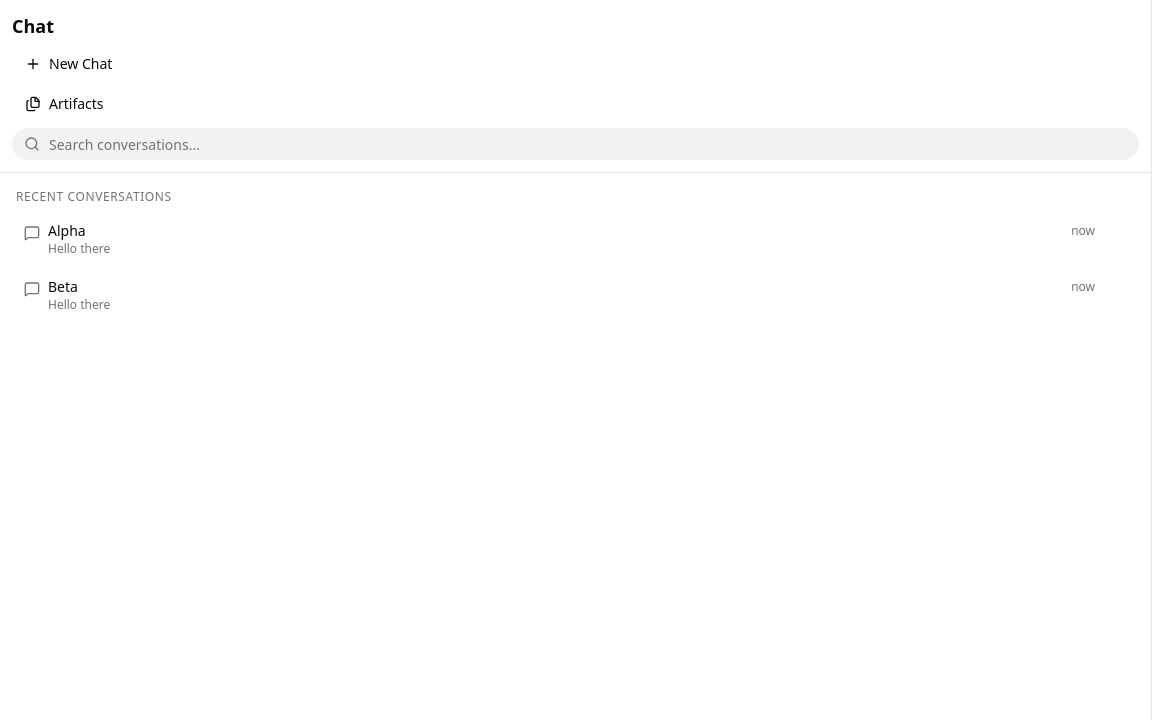
it: ChatSidebar — conversation list › filters by title via the search input
Type "alp" into the field with placeholder "Search conversations..." at (576, 144), box [12, 128, 1139, 160]
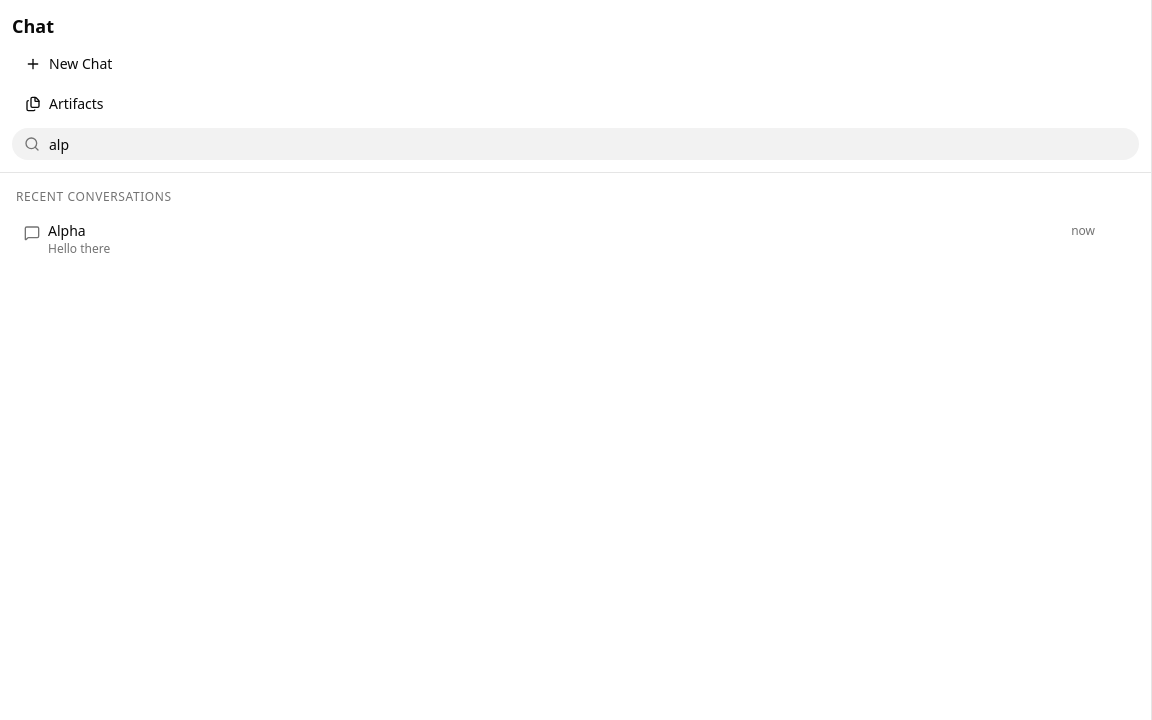
Expected: the text "Alpha" is shown, [48, 221, 86, 241]
Now the button "Beta" is gone
